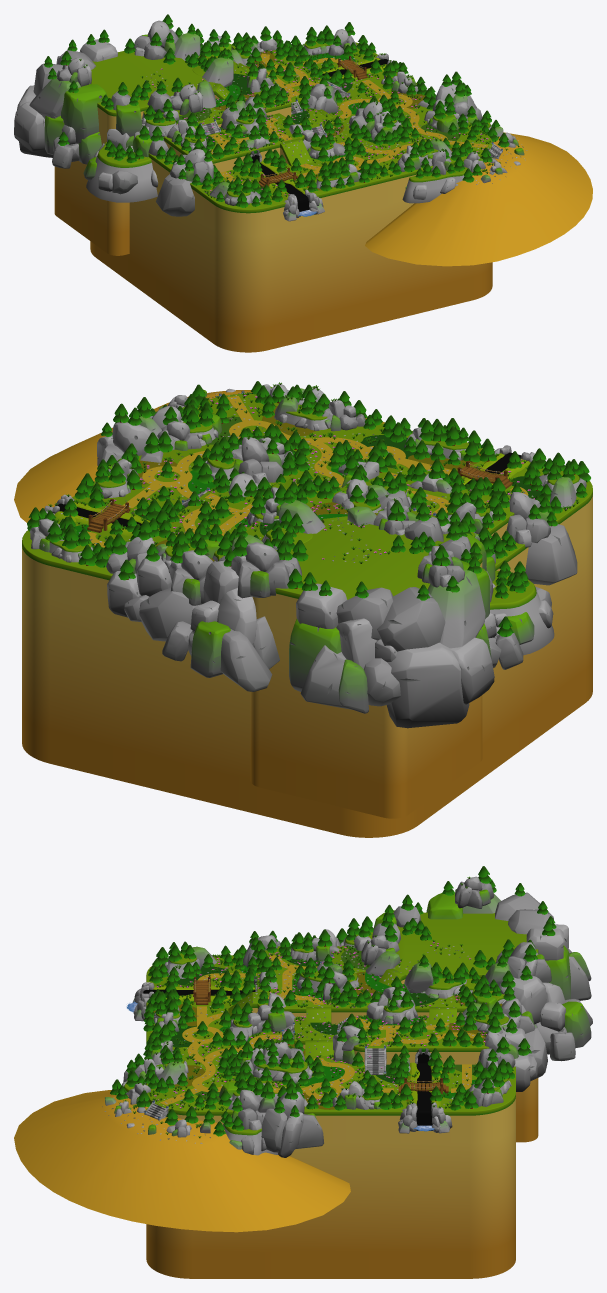
File: MP_Island2.glb
The picture shows the model from 3 angles, top to bottom: view 1: azimuth 30°, elevation 25°; view 2: azimuth 150°, elevation 25°; view 3: azimuth 270°, elevation 25°; orthographic projection. The views are drawn at different scales.
Visible parts, largest first — view 1: SM_LM100RND, SM_Shore, SM_LM40RND3, SM_RockMountainG12, SM_RockL4, SM_LM40RND2, SM_RockCliffE4, SM_RockMountainE10, SM_RockA9, SM_RockG3, SM_RockF3, SM_RockCliffF6 (+13 smaller); view 2: SM_LM100RND, SM_LM40RND3, SM_RockCliffE5, SM_RockCliffE3, SM_RockG5, SM_Shore, SM_RockA3, SM_RockMountainG12, SM_RockF3, SM_RockCliffF6, SM_RockA9, SM_RockL3 (+24 smaller); view 3: SM_LM100RND, SM_Shore, SM_LM40RND3, SM_RockCliffE5, SM_RockCliffF17, SM_LM40RND, SM_RockCliffE3, SM_WaterFallABank2, SM_RockCliffF6, SM_RockG6, SM_RockCliffF5, SM_RockG4 (+20 smaller).
Part boxes in pixels (<box>): SM_LM100RND: <box>90,42,492,352</box>; SM_Shore: <box>365,132,592,266</box>; SM_LM40RND3: <box>54,51,215,255</box>; SM_RockMountainG12: <box>83,142,158,202</box>; SM_RockL4: <box>61,84,107,143</box>; SM_LM40RND2: <box>163,114,304,172</box>; SM_RockCliffE4: <box>52,124,101,168</box>; SM_RockMountainE10: <box>402,166,467,203</box>; SM_RockA9: <box>156,174,194,216</box>; SM_RockG3: <box>14,101,45,151</box>; SM_RockF3: <box>29,77,80,118</box>; SM_RockCliffF6: <box>134,20,178,59</box>; SM_LM100RND: <box>22,394,592,837</box>; SM_LM40RND3: <box>250,519,482,818</box>; SM_RockCliffE5: <box>162,587,279,691</box>; SM_RockCliffE3: <box>300,618,400,713</box>; SM_RockG5: <box>386,642,469,728</box>; SM_Shore: <box>14,390,384,522</box>; SM_RockA3: <box>377,587,445,651</box>; SM_RockMountainG12: <box>490,571,554,655</box>; SM_RockF3: <box>427,569,485,648</box>; SM_RockCliffF6: <box>231,542,302,598</box>; SM_RockA9: <box>525,524,577,585</box>; SM_RockL3: <box>289,619,341,691</box>; SM_LM100RND: <box>146,955,515,1278</box>; SM_Shore: <box>14,1090,350,1232</box>; SM_LM40RND3: <box>393,912,538,1142</box>; SM_RockCliffE5: <box>535,982,592,1061</box>; SM_RockCliffF17: <box>261,1091,323,1157</box>; SM_LM40RND: <box>353,1016,489,1064</box>; SM_RockCliffE3: <box>555,924,591,1000</box>; SM_WaterFallABank2: <box>398,1098,452,1133</box>; SM_RockCliffF6: <box>496,942,551,982</box>; SM_RockG6: <box>513,976,546,1024</box>; SM_RockCliffF5: <box>455,876,494,908</box>; SM_RockG4: <box>526,928,563,960</box>.
Size of the model in its own units: 158 by 72.63 by 157.
6 materials, 4 textured.
